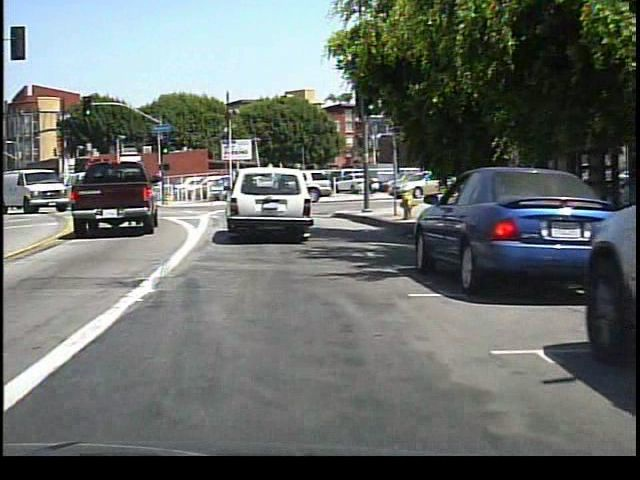person: (357, 166, 374, 200)
